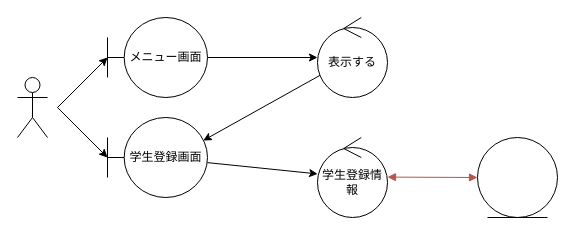
Some shapes in this 575 by 235 pixel diagram are drawn without their labels. The shapes that lost their labels are listed below. From the top down, each one's box as (x1, y1, x2, y2) in pixels, then its label:
(16, 76, 48, 138): 学生
(476, 136, 558, 218): 学生オブジェクトデータ
